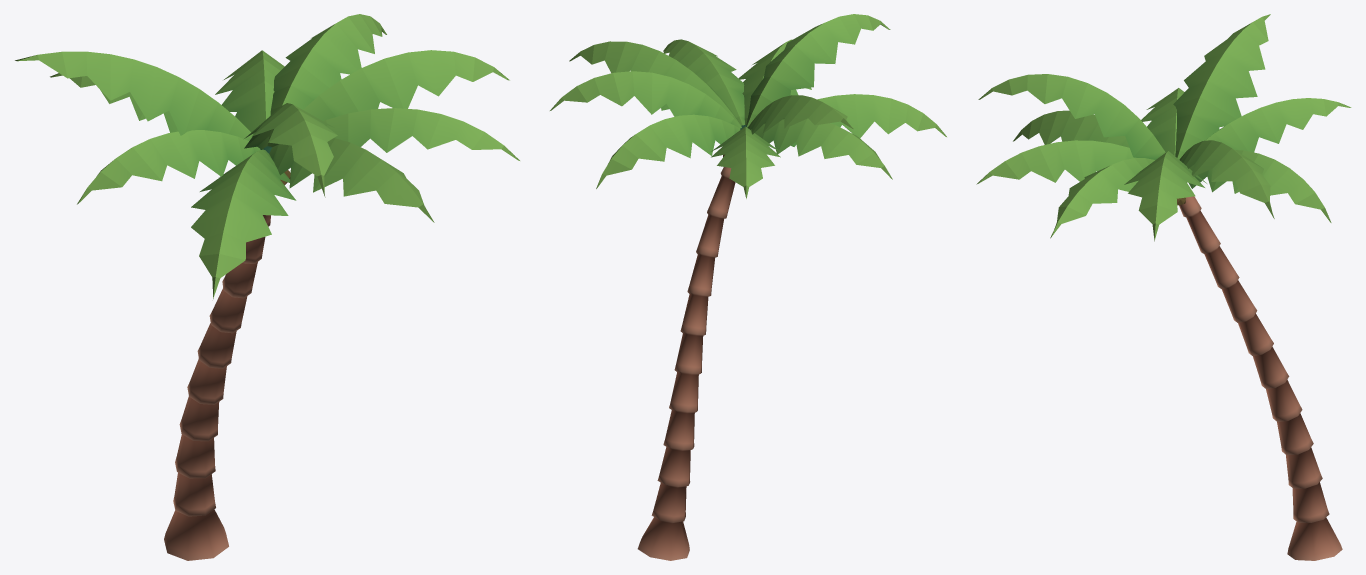
The model's file is palm_curve.glb.
The picture shows the model from 3 angles, left to right: view 1: azimuth 30°, elevation 25°; view 2: azimuth 150°, elevation 25°; view 3: azimuth 270°, elevation 25°; orthographic projection. The views are drawn at different scales.
Visible parts, largest first — view 1: palm_curve; view 2: palm_curve; view 3: palm_curve.
Part boxes in pixels (bbox=[...]): palm_curve: bbox=[15, 14, 519, 560]; palm_curve: bbox=[550, 14, 946, 560]; palm_curve: bbox=[976, 14, 1351, 560].
Bounding box in the file's own units: 6.9 × 8.77 × 6.43.
